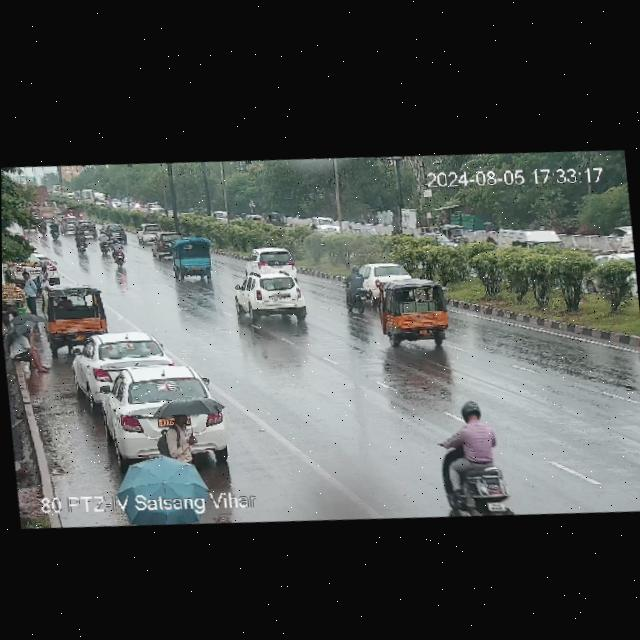car: (90, 359, 230, 470), (73, 326, 172, 396), (377, 279, 452, 348), (231, 265, 310, 330), (41, 281, 110, 349), (171, 238, 216, 283), (242, 241, 296, 275), (364, 258, 386, 306), (149, 231, 178, 259), (444, 222, 468, 244), (47, 256, 64, 285), (315, 215, 340, 234), (107, 221, 128, 243), (135, 220, 157, 241), (77, 218, 101, 236), (38, 204, 56, 221), (60, 214, 76, 233), (71, 205, 85, 220), (54, 201, 67, 215)
motorcycle: (434, 389, 517, 517), (340, 263, 371, 317), (105, 238, 126, 270), (37, 217, 59, 239), (73, 229, 92, 253), (96, 229, 110, 255)
person: (157, 400, 202, 465), (6, 321, 49, 374), (21, 270, 40, 314), (39, 264, 51, 293)
truck: (498, 224, 563, 254)
